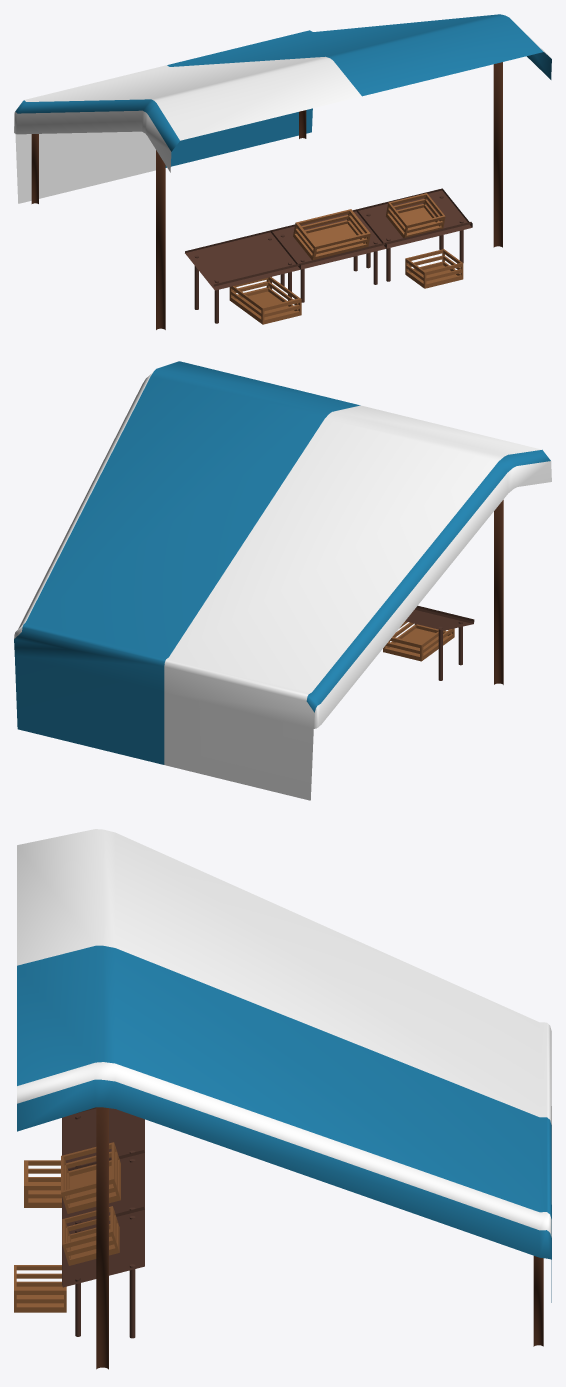
The model's file is stand_c_1.fbx.
The picture shows the model from 3 angles, top to bottom: view 1: azimuth 30°, elevation 25°; view 2: azimuth 150°, elevation 25°; view 3: azimuth 270°, elevation 25°; orthographic projection. The views are drawn at different scales.
Parts seen in each view (by area): view 1: Cube.005; view 2: Cube.005; view 3: Cube.005.
Part boxes in pixels (left/top/right/bottom): Cube.005: left=14, top=14, right=551, bottom=329; Cube.005: left=14, top=361, right=551, bottom=800; Cube.005: left=14, top=829, right=551, bottom=1369.
Bounding box in the file's own units: 1364 × 791 × 1227.
